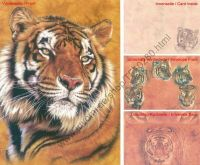Tigre: (6, 10, 109, 132)
